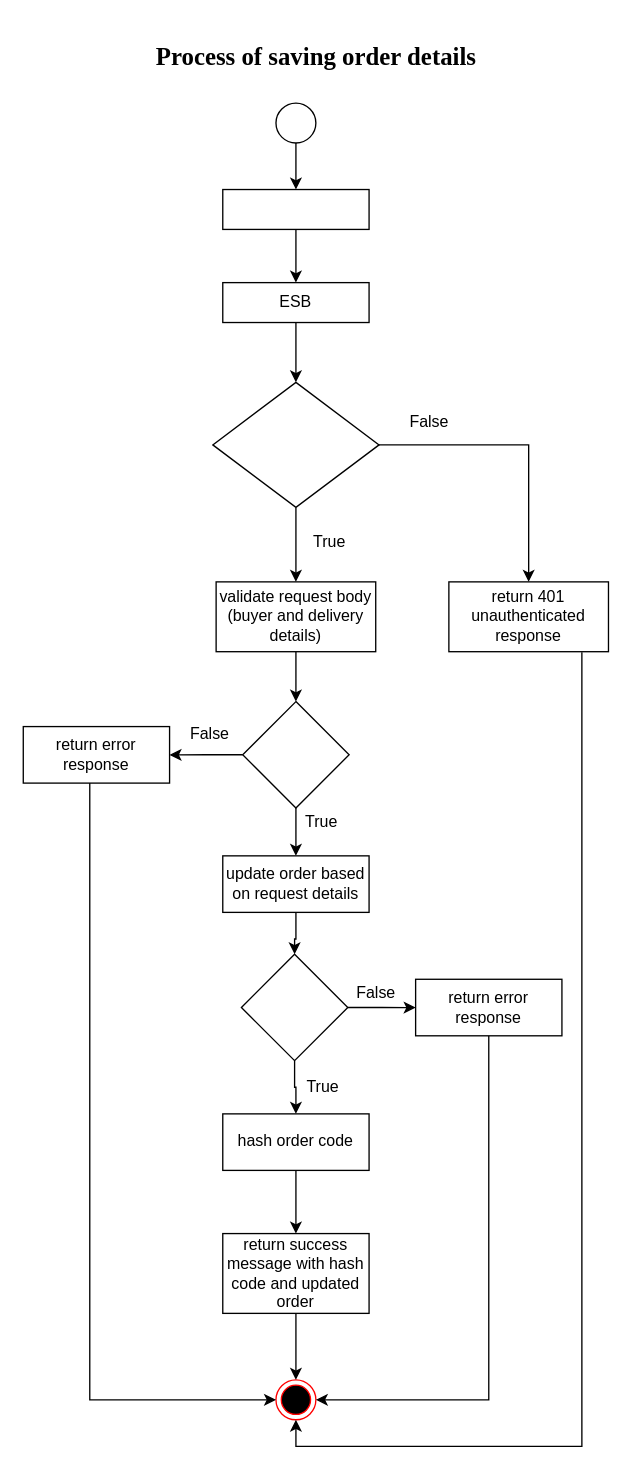
Some shapes in this 632 by 1480 pixel diagram are drawn without their labels. Here are the shapes that lost their labels. From the top down, the centre of each, then its label:
point 295,208: Save order details
point 295,444: isAuthenticated
point 295,754: isValid
point 294,1007: isUpdated
